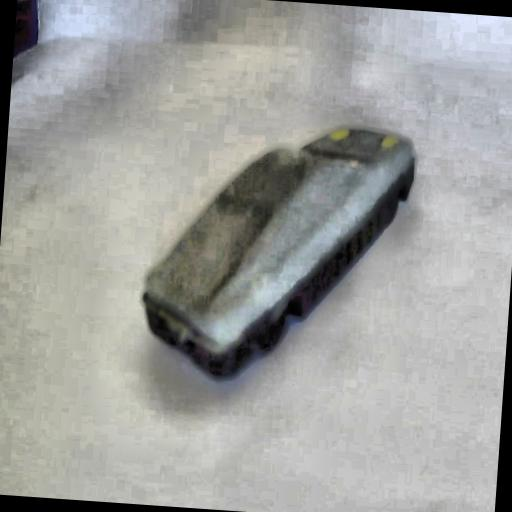normal_car: (126, 100, 426, 398)
